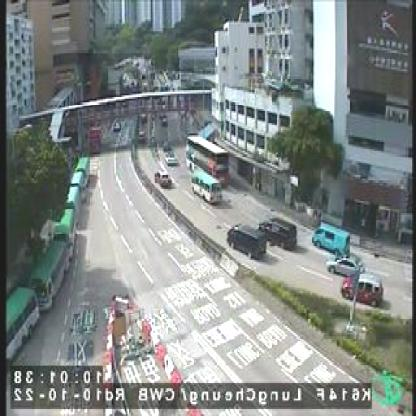Bus: (188, 134, 229, 202), (88, 125, 102, 153)
Car: (342, 274, 384, 310), (316, 231, 354, 268), (228, 224, 266, 259), (262, 216, 298, 250), (326, 254, 361, 279), (156, 171, 171, 188), (165, 154, 176, 166)
Minibus: (3, 284, 39, 360), (31, 241, 68, 309), (188, 167, 221, 204), (54, 209, 74, 242), (72, 158, 89, 192), (64, 185, 78, 213), (70, 170, 82, 192)
Truck: (313, 222, 350, 257)
